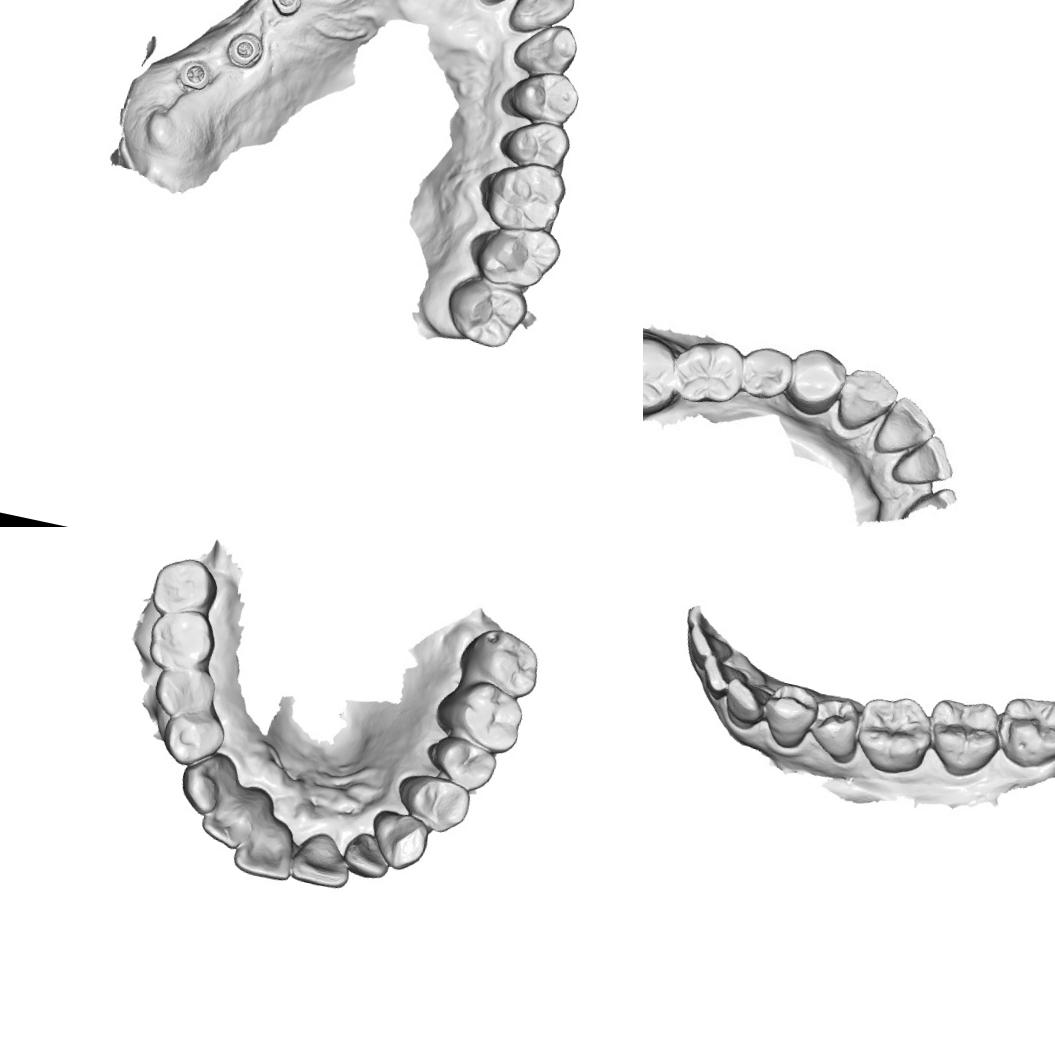canine: (830, 359, 900, 441), (363, 806, 436, 876), (510, 17, 586, 84), (173, 746, 240, 820), (717, 672, 776, 734)
implant: (220, 28, 268, 75), (172, 54, 214, 95), (266, 0, 307, 21)
incisor: (196, 777, 276, 856), (229, 812, 306, 886), (869, 391, 940, 467), (284, 826, 359, 894), (889, 430, 958, 492), (675, 622, 737, 682), (504, 0, 583, 47), (336, 826, 398, 884), (697, 649, 754, 710)
molar: (848, 685, 943, 781), (470, 152, 571, 242), (428, 671, 530, 758), (464, 213, 567, 296), (920, 692, 1007, 784), (439, 271, 533, 355), (454, 620, 550, 702), (666, 331, 750, 412), (142, 604, 224, 680), (144, 549, 224, 624), (989, 687, 1055, 777), (643, 324, 683, 423)
premolar: (389, 766, 476, 840), (422, 727, 503, 798), (500, 64, 584, 130), (155, 702, 232, 774), (495, 112, 576, 176), (148, 658, 224, 726), (802, 691, 869, 767), (757, 680, 820, 758), (782, 342, 847, 417), (736, 340, 798, 405)
